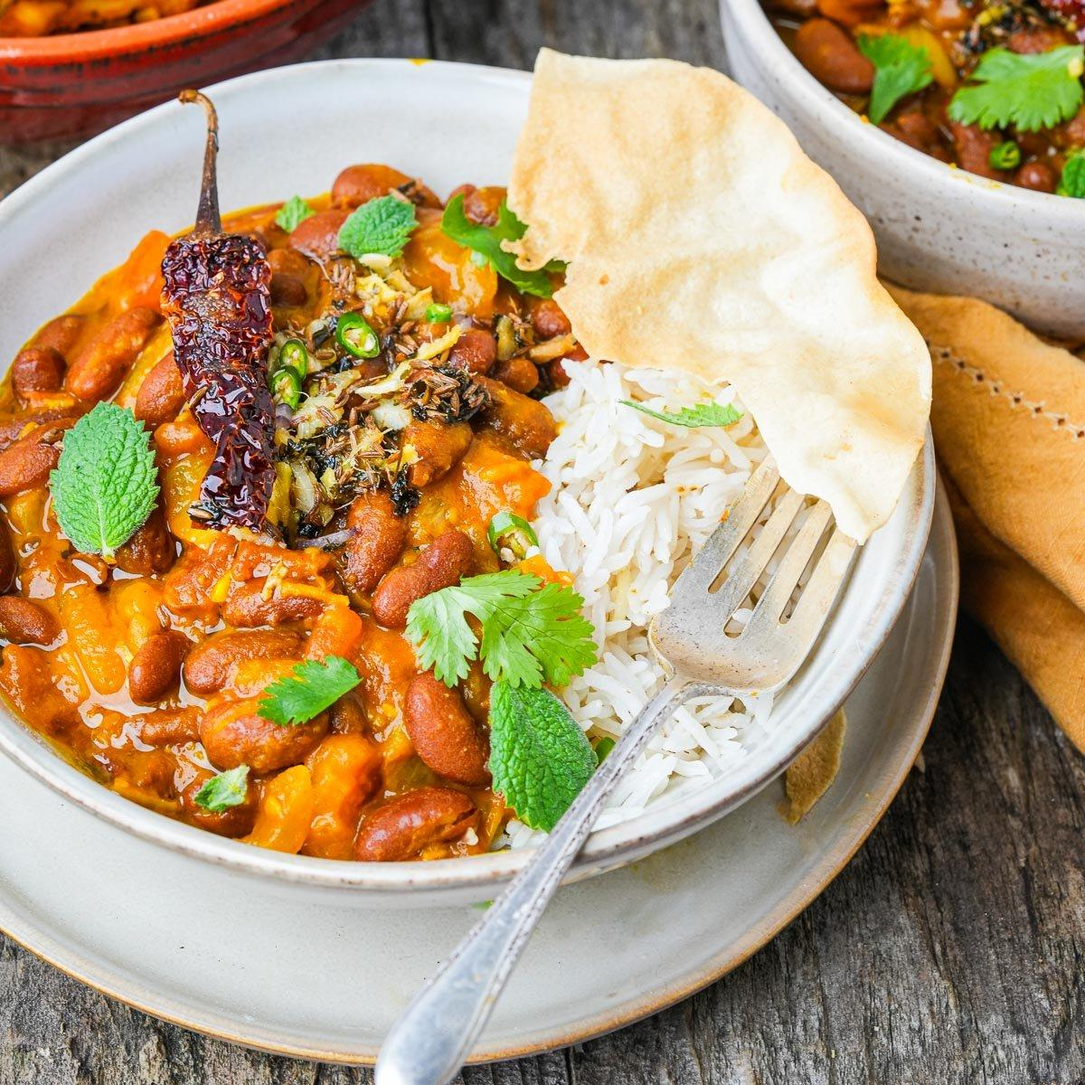rajma: (10, 206, 509, 798)
rice: (141, 155, 519, 501), (544, 369, 764, 754), (531, 420, 734, 726), (616, 411, 824, 706)
